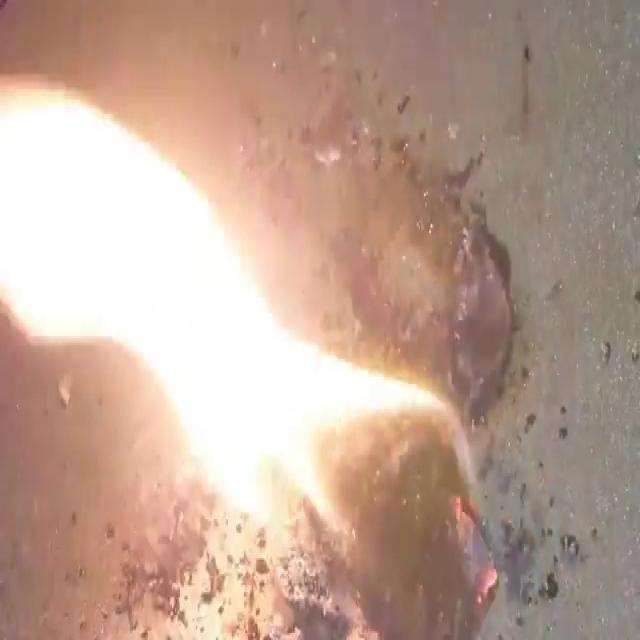Fire: (2, 73, 470, 537)
